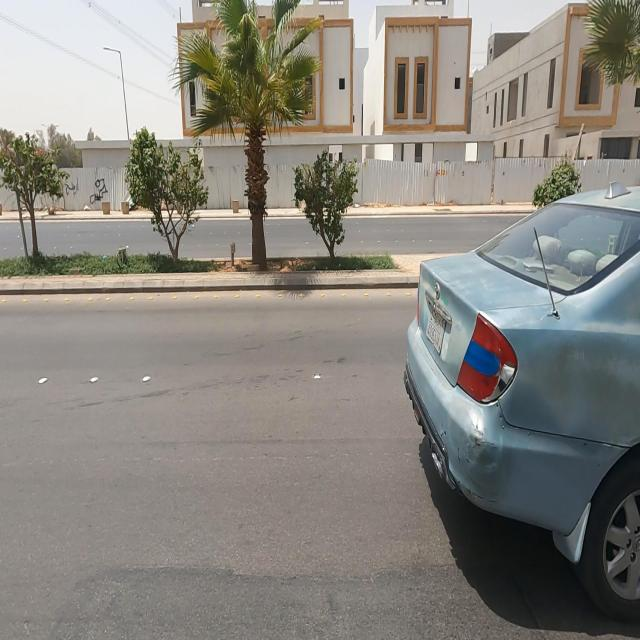Graffiti: (91, 179, 108, 206), (66, 180, 81, 201)
